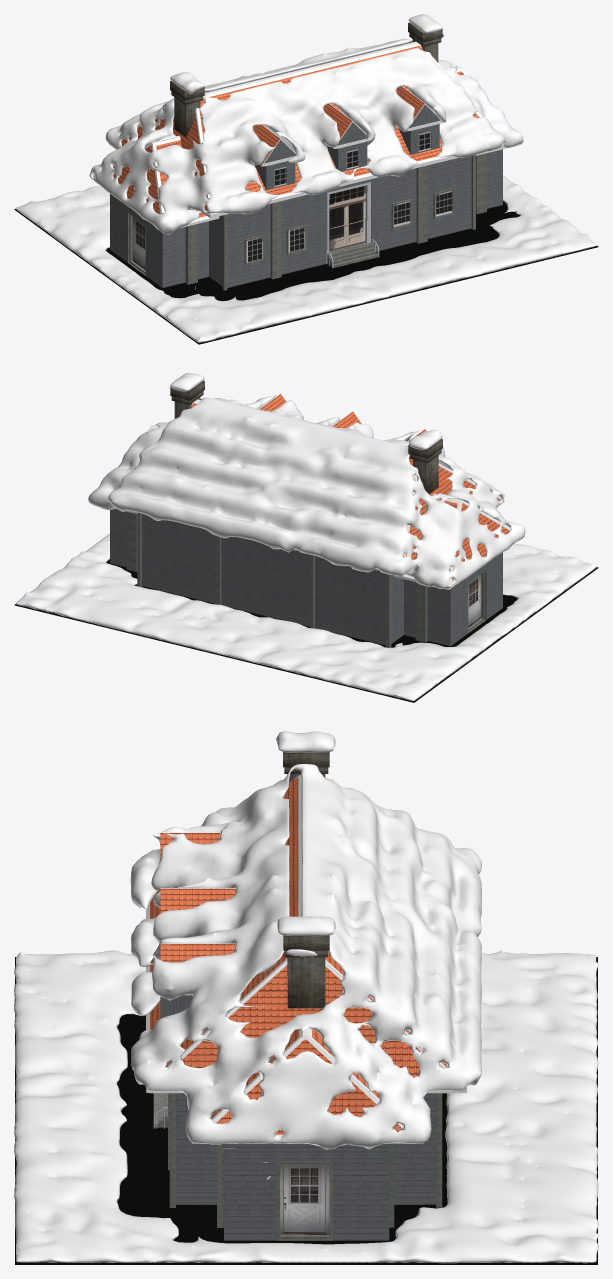
The model's file is House_S5P4.glb.
The picture shows the model from 3 angles, top to bottom: view 1: azimuth 30°, elevation 25°; view 2: azimuth 150°, elevation 25°; view 3: azimuth 270°, elevation 25°; orthographic projection. The views are drawn at different scales.
Parts seen in each view (by area): view 1: SnowMesh, House1, Plane; view 2: SnowMesh, House1, Plane; view 3: SnowMesh, House1, Plane.
Part boxes in pixels (bbox=[...]): SnowMesh: bbox=[15, 14, 597, 342]; House1: bbox=[91, 22, 521, 290]; Plane: bbox=[14, 201, 598, 344]; SnowMesh: bbox=[16, 373, 597, 700]; House1: bbox=[108, 381, 510, 647]; Plane: bbox=[14, 559, 598, 702]; SnowMesh: bbox=[14, 731, 598, 1263]; House1: bbox=[146, 751, 466, 1240]; Plane: bbox=[15, 957, 597, 1264].
Size of the model in its own units: 10.04 by 4.33 by 8.03.
12 materials, 9 textured.
